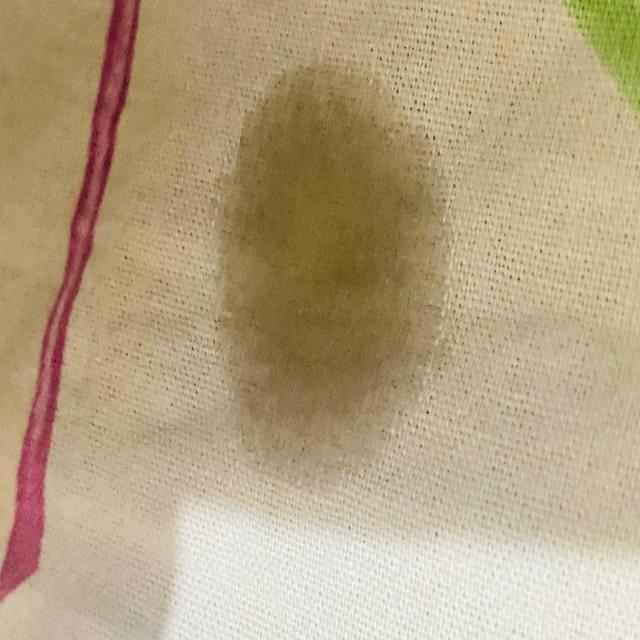stain: (204, 53, 458, 494)
